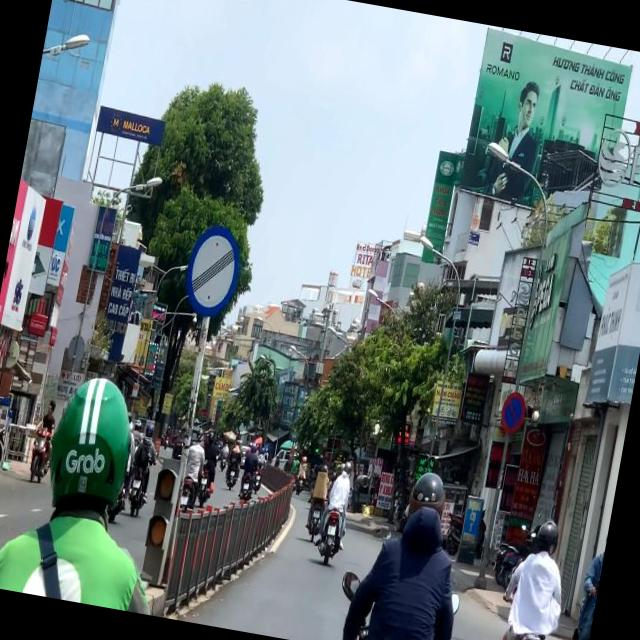DP-135: (183, 222, 246, 313)
P-131a: (496, 389, 528, 435)
